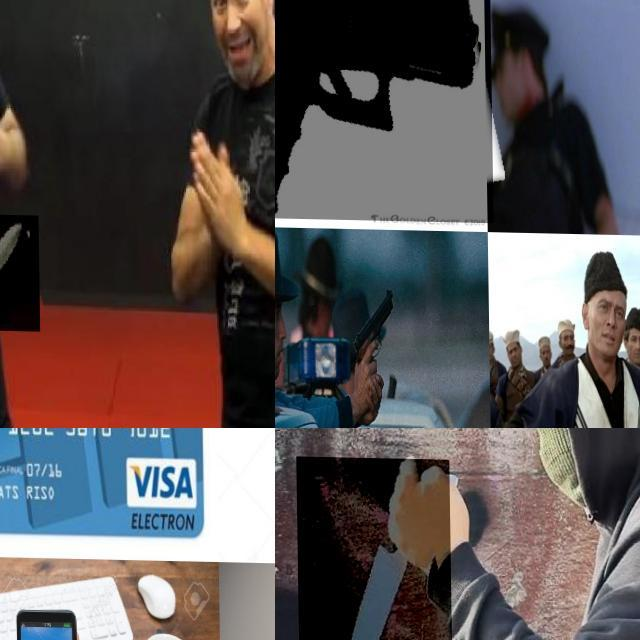-: (295, 455, 451, 640), (0, 212, 53, 330)
gun-knife-thesis - v11 Yolov5 augmented: (275, 0, 492, 221), (348, 286, 392, 414)
